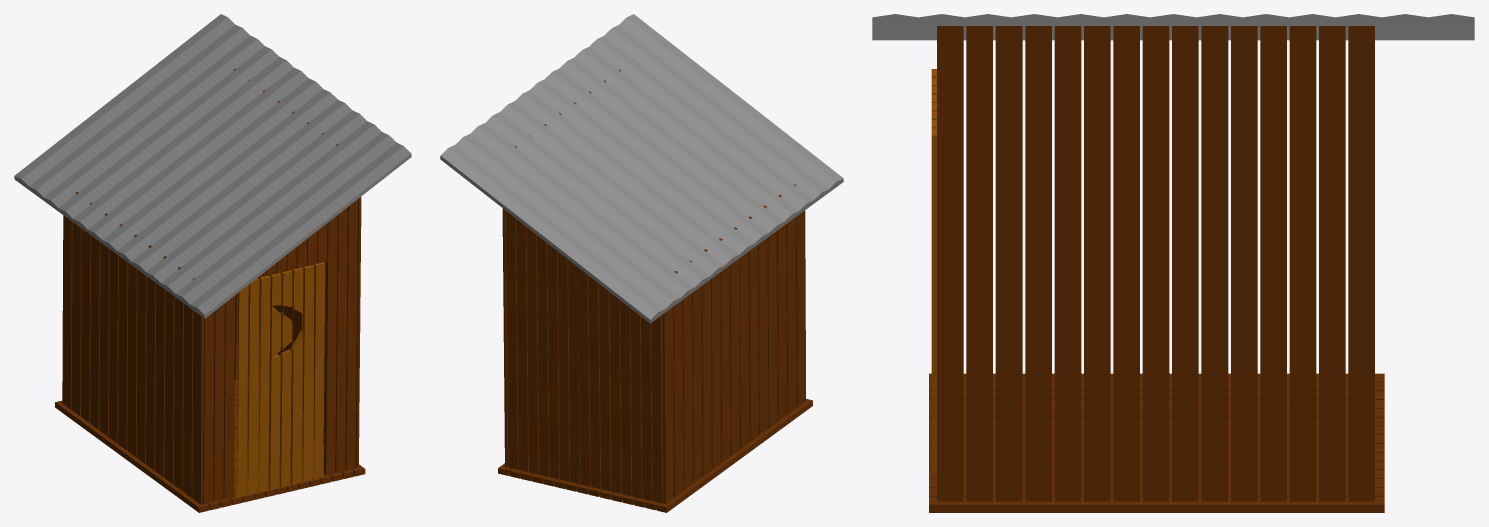
File: Latrina.fbx
3 views of the same model, side by side, from view 1: azimuth 30°, elevation 25°; view 2: azimuth 150°, elevation 25°; view 3: azimuth 270°, elevation 25° (orthographic). The views are drawn at different scales.
Parts seen in each view (by area): view 1: Plane.002; view 2: Plane.002; view 3: Plane.002.
Boxes of the visible parts, <box> form: Plane.002: <box>14,14,411,512</box>; Plane.002: <box>440,14,843,512</box>; Plane.002: <box>872,14,1474,512</box>.
Size of the model in its own units: 1417 by 2151 by 2255.
